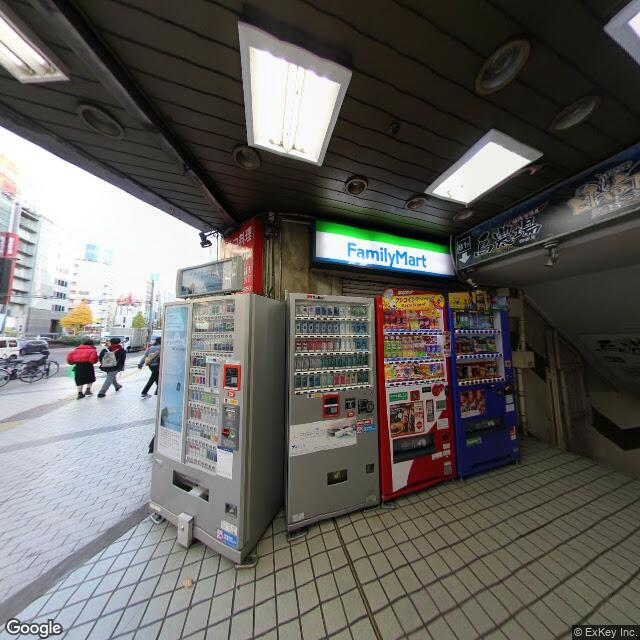family_mart: (311, 215, 455, 278)
